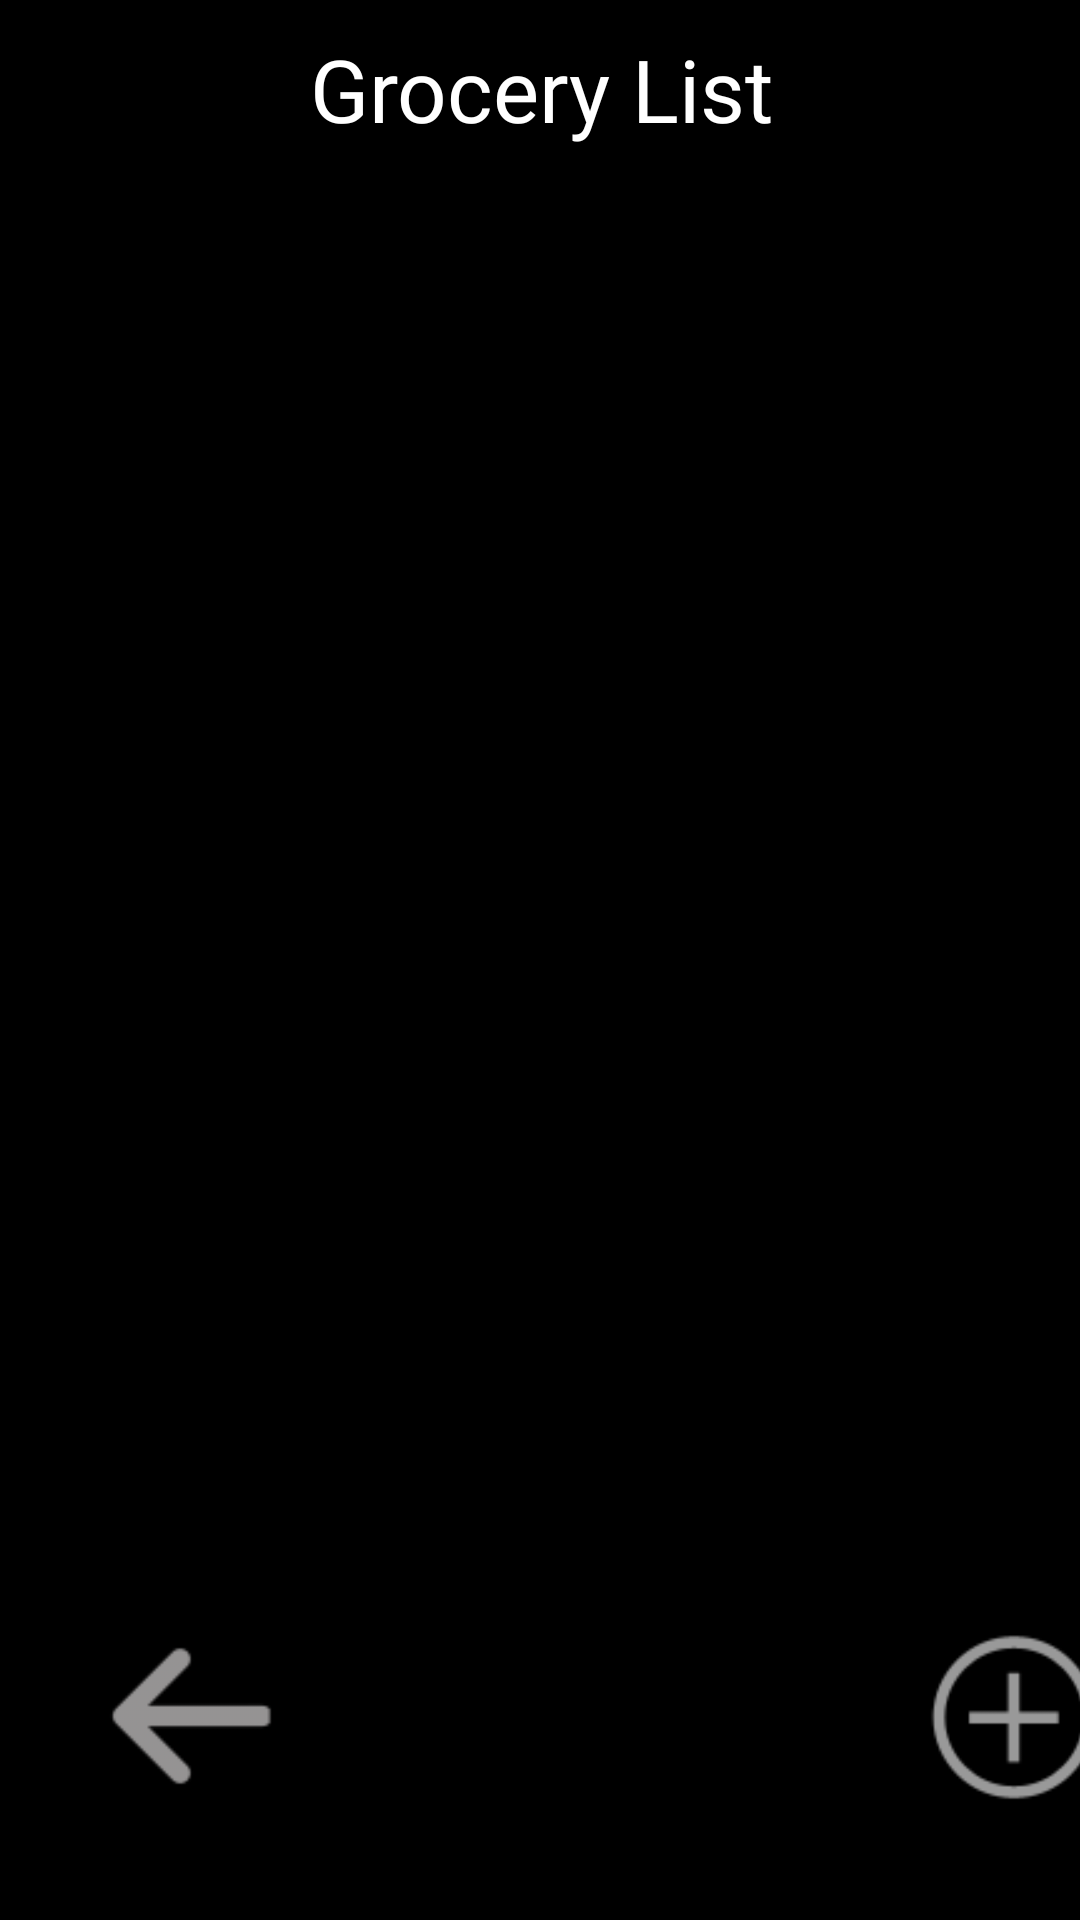

Locate icon controls on the screen. Image size 1080px x 1920px, boxes as bbox=[x1, y1, x2, y2].
back: bbox=[112, 1648, 271, 1784]
